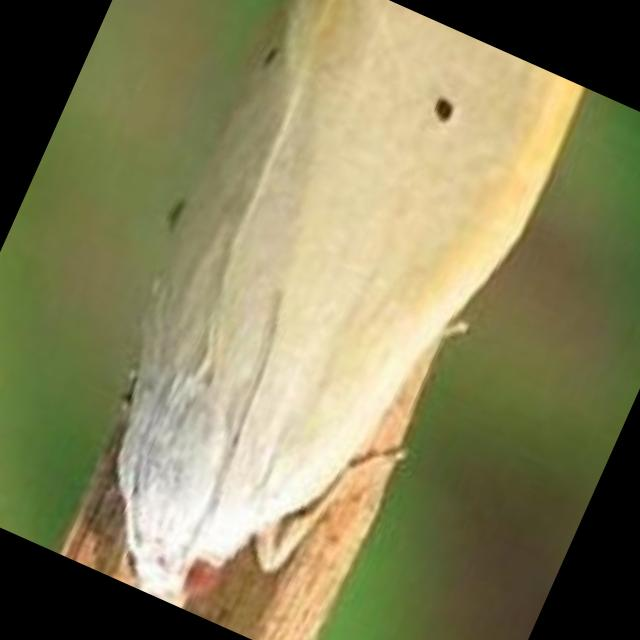stem-borer: (27, 0, 588, 640)
